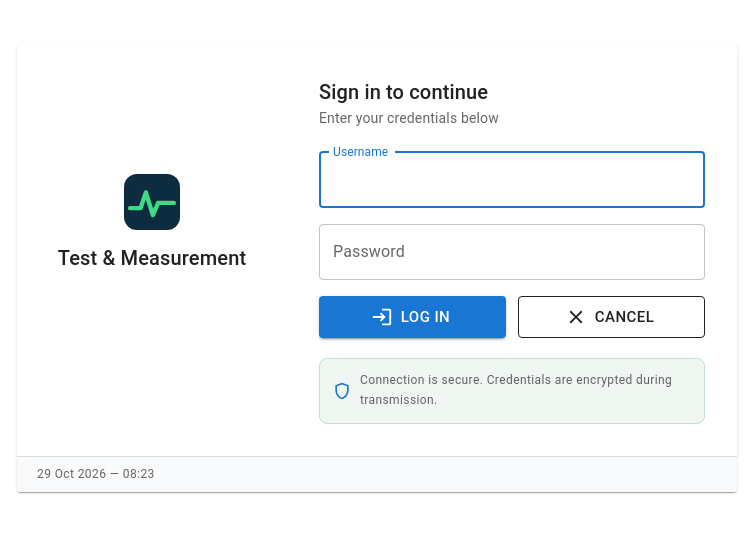
Test: Login › shows the error body on bad credentials
Type "admin" into the field labelled "Username" at (512, 180), box x1=319 y1=152 x2=705 y2=208
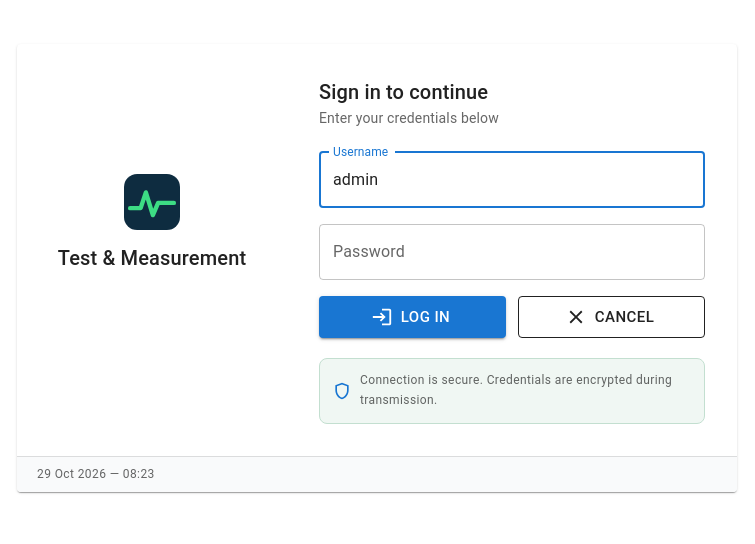
Type "nope" into the password field labelled "Password" at (512, 252), box x1=319 y1=224 x2=705 y2=280
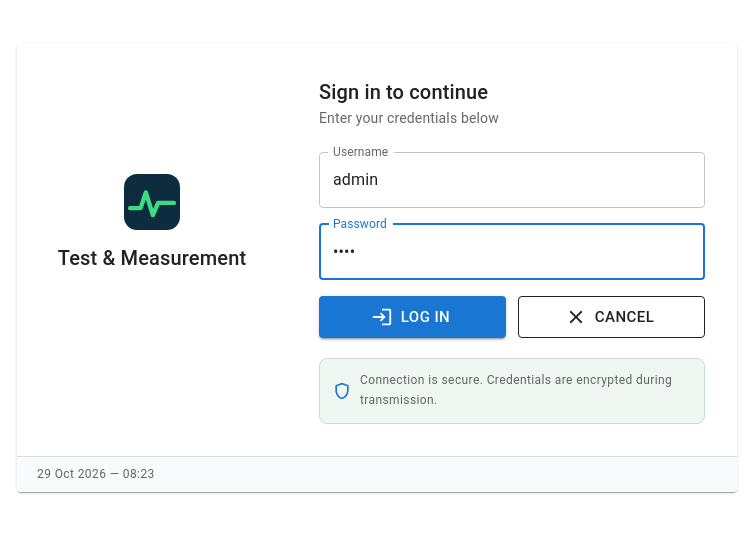
Click the button "Log in" at (412, 317), box x1=319 y1=296 x2=506 y2=338
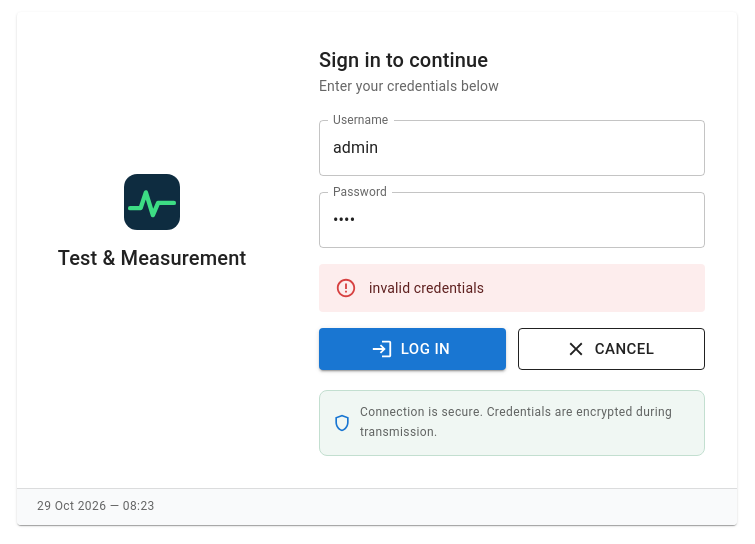
Expected: the text "invalid credentials" is shown, x1=369 y1=280 x2=484 y2=296
